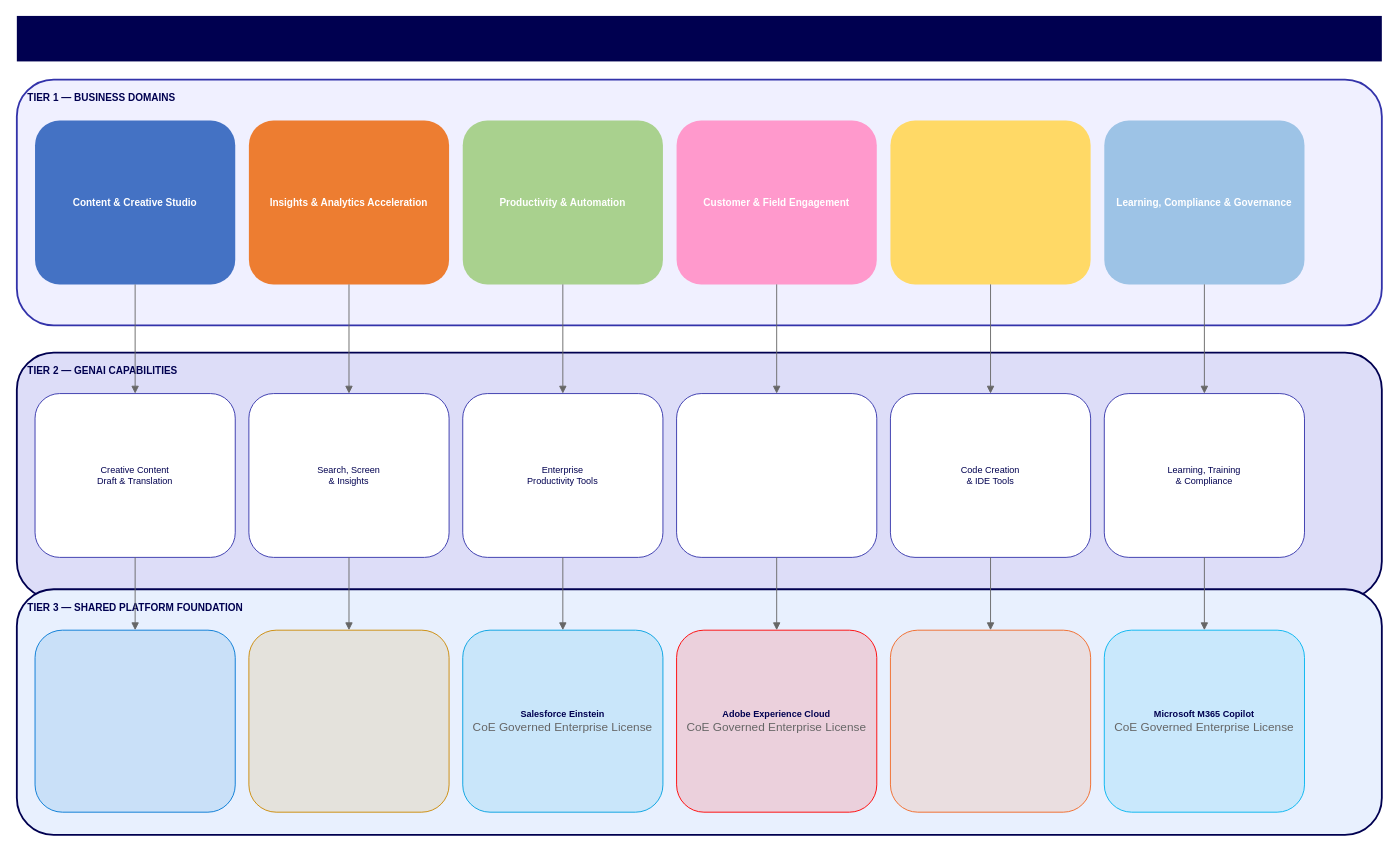
Some shapes in this 1398 by 851 pixel diagram are drawn without their labels. Each missing label, with the centre of its shape:
"Abbott GenAI Enterprise Blueprint — 3-Tier Architecture" belongs at (698,38).
"Anthropic Claude CoE Governed Enterprise License" belongs at (348,720).
"Assistants & Personalization" belongs at (776,475).
"Azure AI Foundry CoE Governed Enterprise License" belongs at (134,720).
"Engineering & Development" belongs at (990,202).
"Veeva Vault AI CoE Governed Enterprise License" belongs at (990,720).
